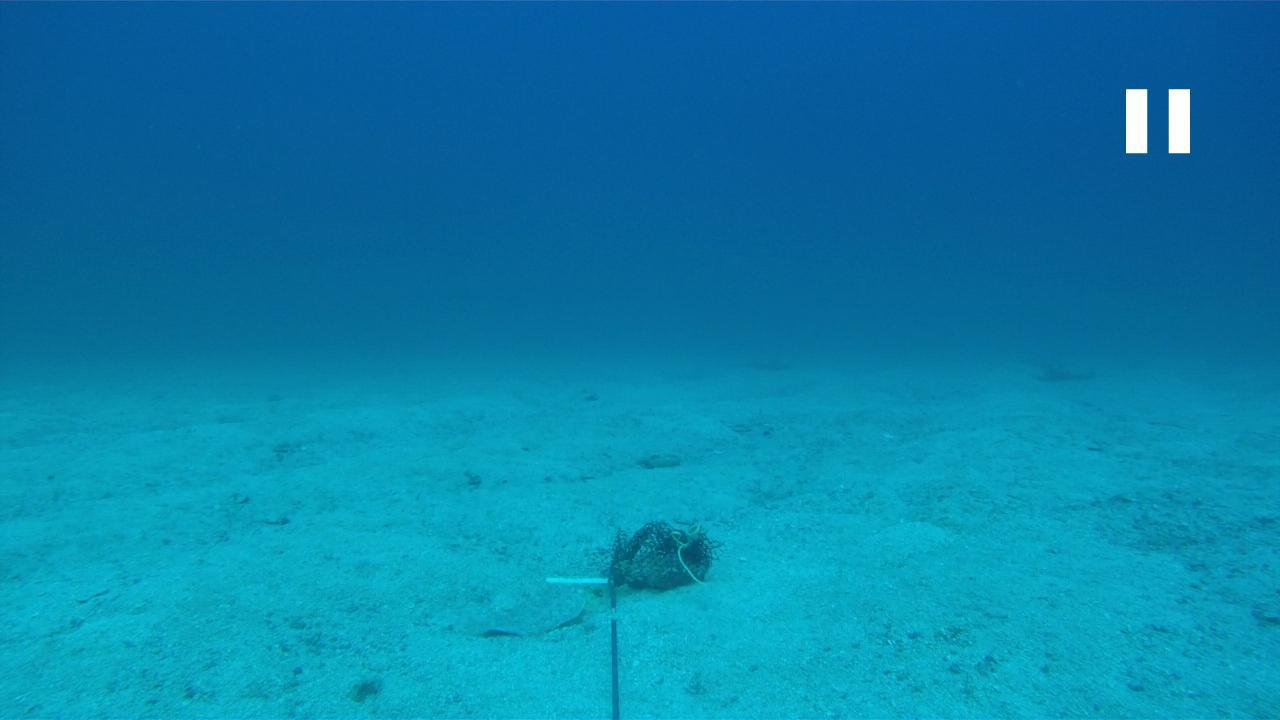bothus: (438, 588, 588, 638)
